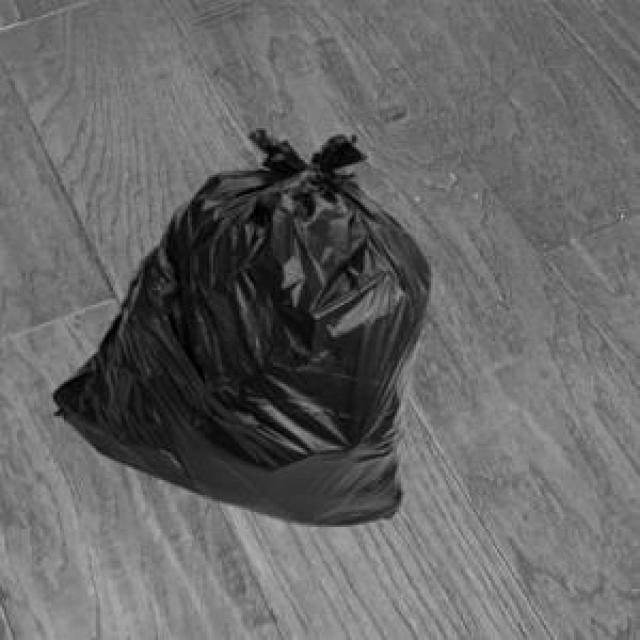miscellaneous trash: (49, 126, 427, 521)
